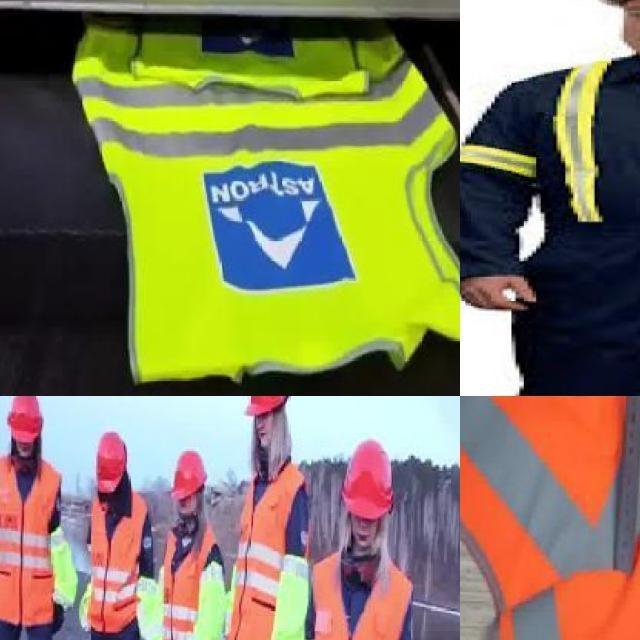apron: (53, 604, 64, 632)
